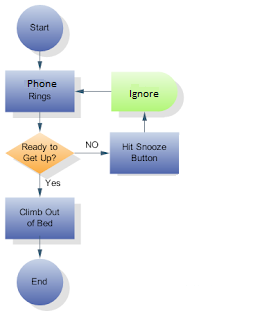arrow: (74, 86, 111, 96), (74, 149, 109, 156), (36, 239, 44, 259), (37, 50, 44, 71), (37, 172, 42, 196), (37, 111, 42, 132)
connection: (16, 4, 64, 52), (17, 259, 64, 305)
decision: (6, 132, 74, 174)
process: (4, 196, 76, 241), (109, 131, 180, 175), (4, 70, 76, 112), (110, 70, 178, 110)
text: (121, 142, 167, 162), (19, 206, 60, 228), (20, 143, 59, 163), (26, 78, 57, 101), (128, 89, 159, 99), (29, 22, 50, 33), (43, 178, 62, 188), (29, 277, 48, 286), (83, 140, 100, 149)
